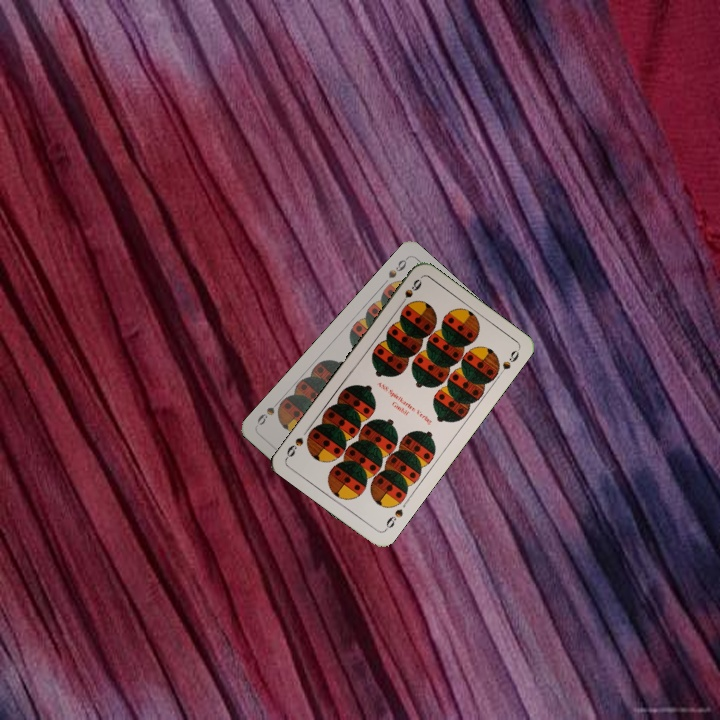S9: (395, 275, 424, 310), (381, 505, 406, 534), (384, 254, 410, 281)
